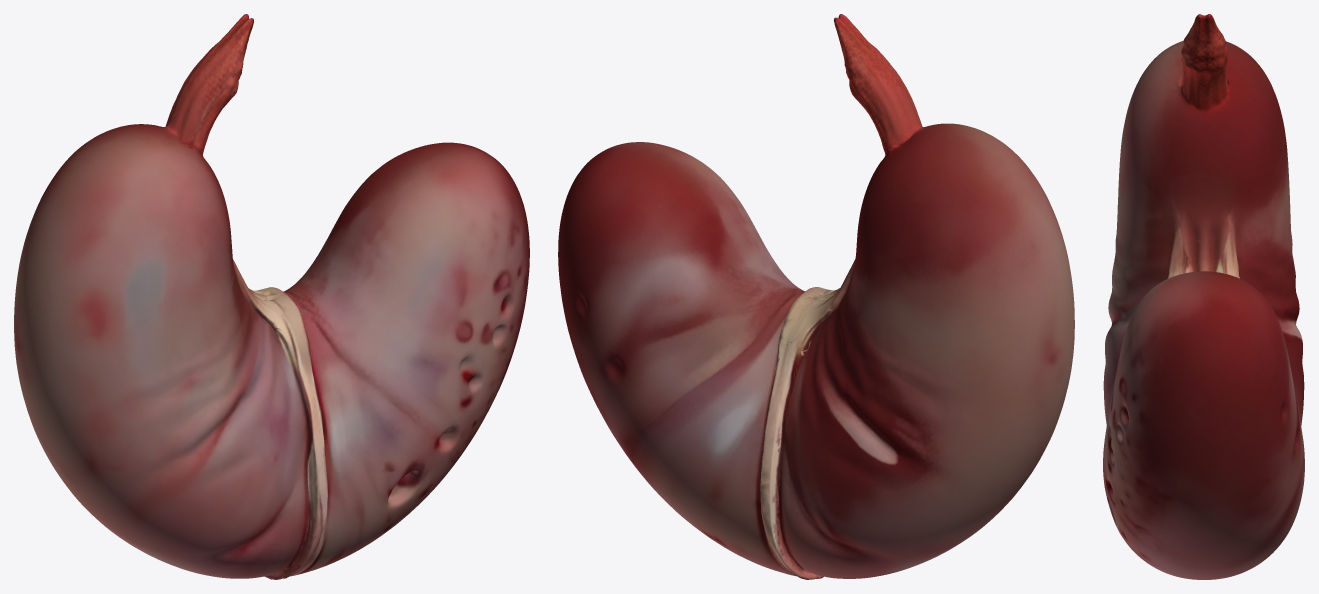
Rendered from horse_stomach.glb.
3 renders of one model, left to right at view 1: azimuth 30°, elevation 25°; view 2: azimuth 150°, elevation 25°; view 3: azimuth 270°, elevation 25°, orthographic. The views are drawn at different scales.
Parts seen in each view (by area): view 1: model; view 2: model; view 3: model.
Part boxes in pixels (box(x1,y1,x2,y2)): model: box(14, 14, 529, 579); model: box(558, 14, 1074, 579); model: box(1103, 14, 1304, 579).
Size of the model in its own units: 1.75 by 1.9 by 0.6485.
1 material, 1 textured.
